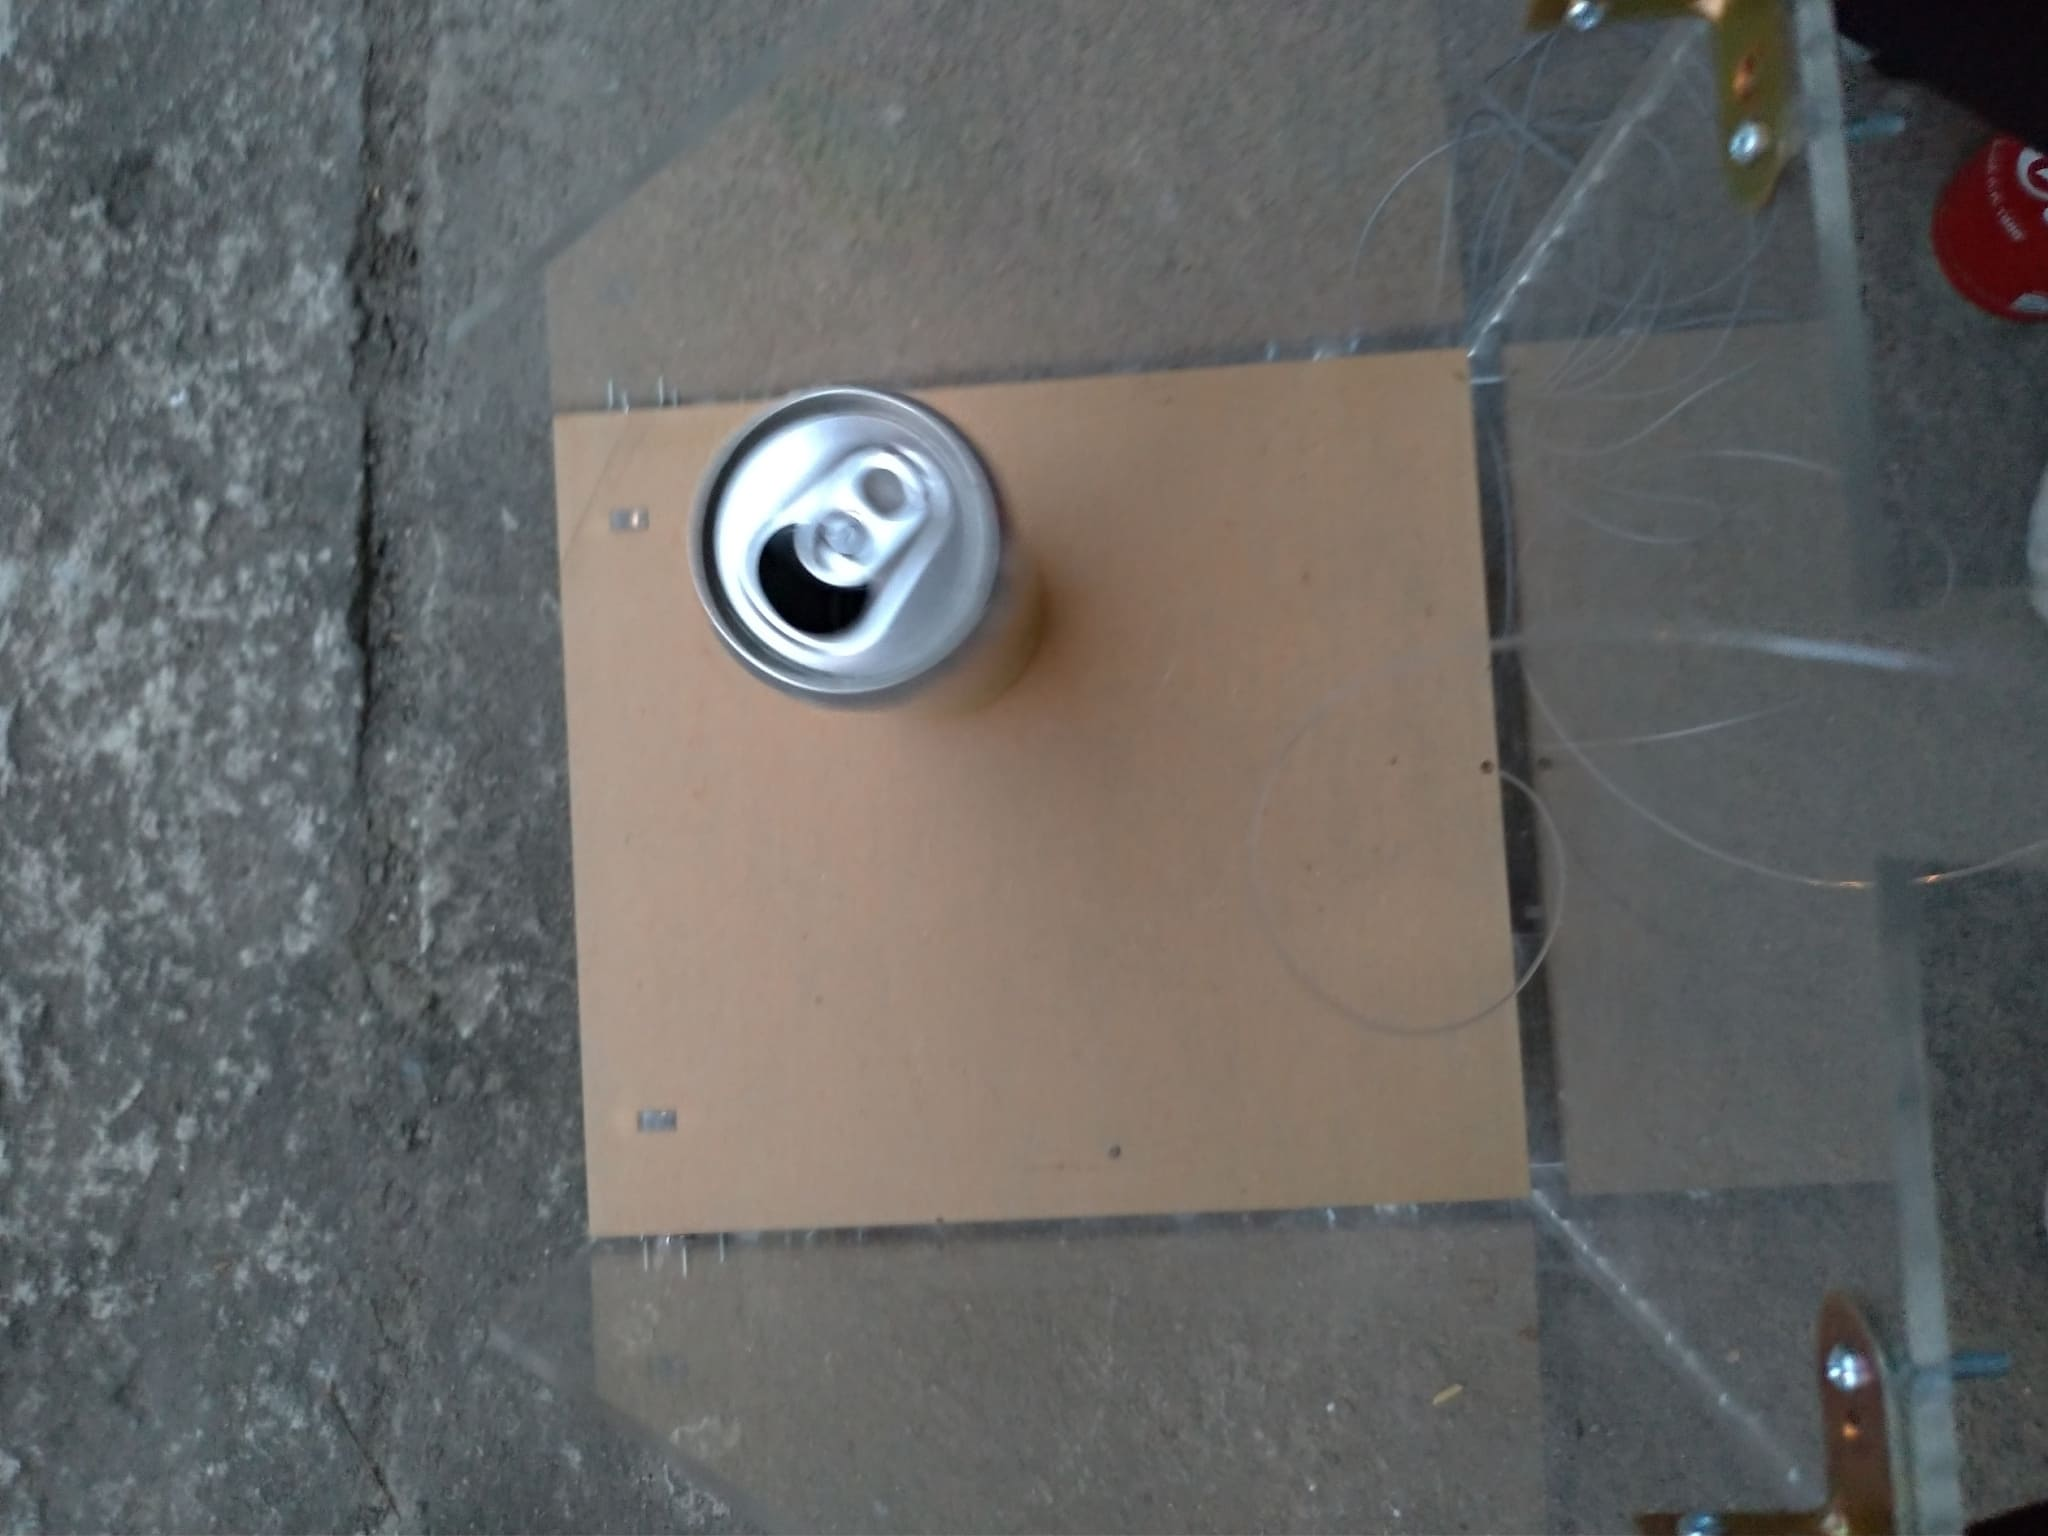AlCan: (684, 387, 1039, 724), (1929, 118, 2048, 315)
